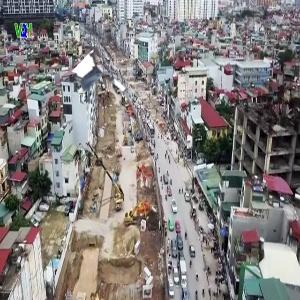drone: (68, 61, 123, 116)
